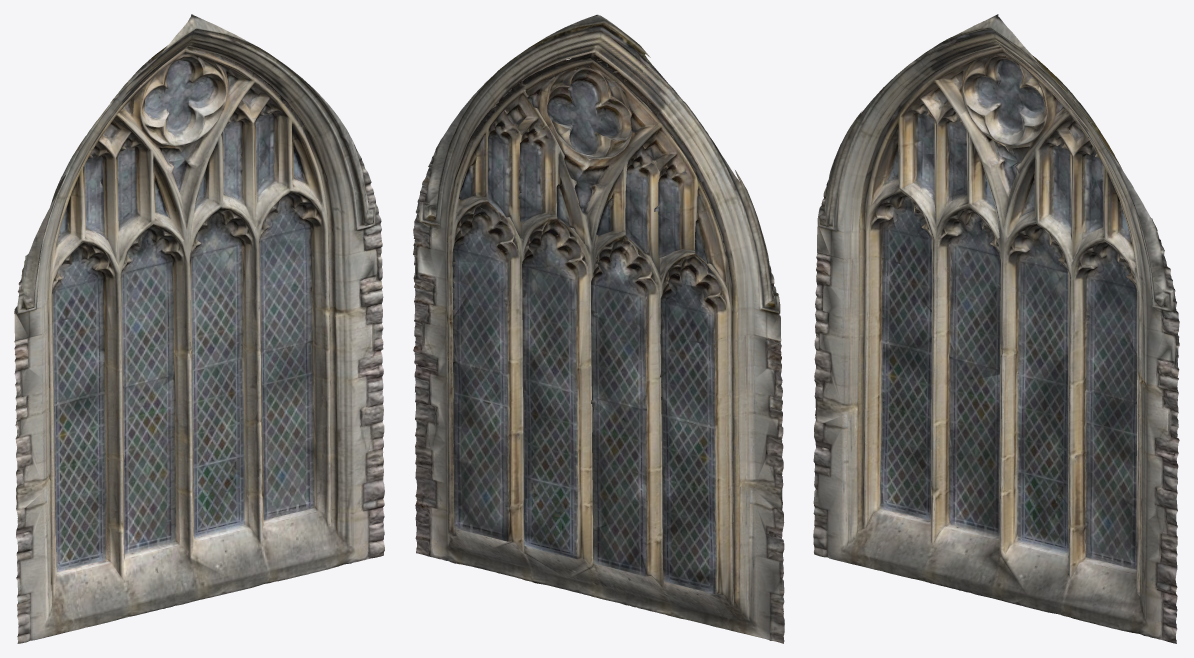
File: reception-church-window.glb
The picture shows the model from 3 angles, left to right: view 1: azimuth 30°, elevation 25°; view 2: azimuth 150°, elevation 25°; view 3: azimuth 330°, elevation 25°; orthographic projection.
Bounding box in the file's own units: 2.26 × 3.45 × 0.2847.
1 material, 1 textured.
